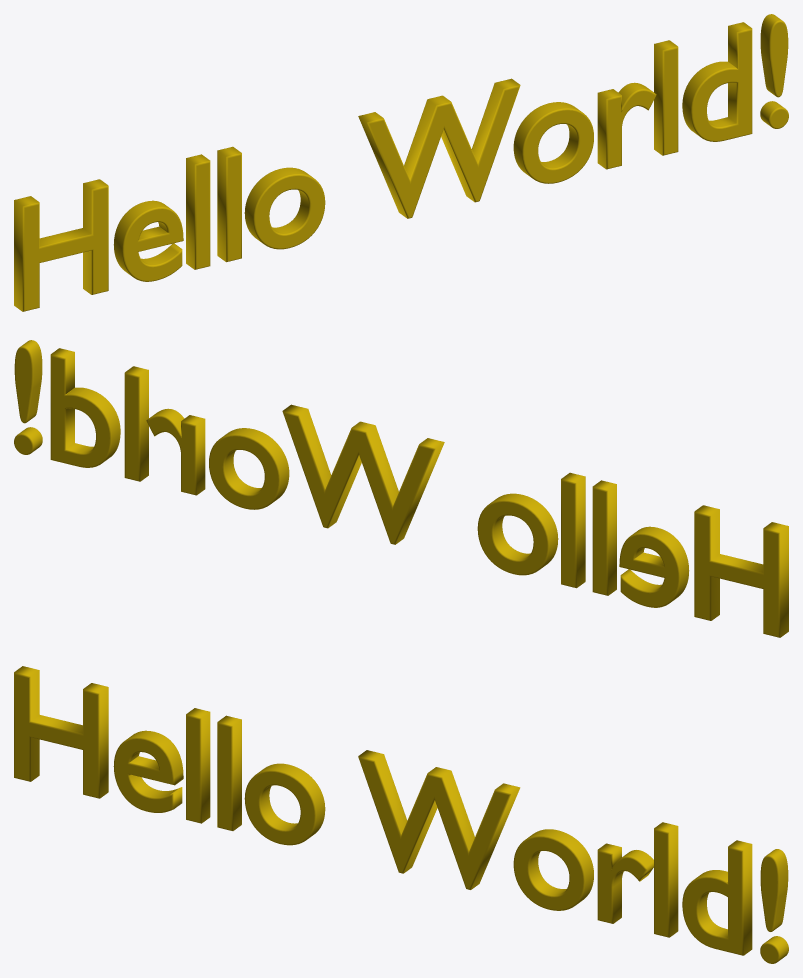
The model's file is hello_world_gold.dae.
3 renders of one model, top to bottom at view 1: azimuth 30°, elevation 25°; view 2: azimuth 150°, elevation 25°; view 3: azimuth 330°, elevation 25°, orthographic.
Visible parts, largest first — view 1: Text; view 2: Text; view 3: Text.
Part boxes in pixels (x1,y1,x2,y2): Text: (14,14,788,311); Text: (14,340,788,637); Text: (14,666,788,963).
Bounding box in the file's own units: 5.34 × 0.12 × 0.7201.
